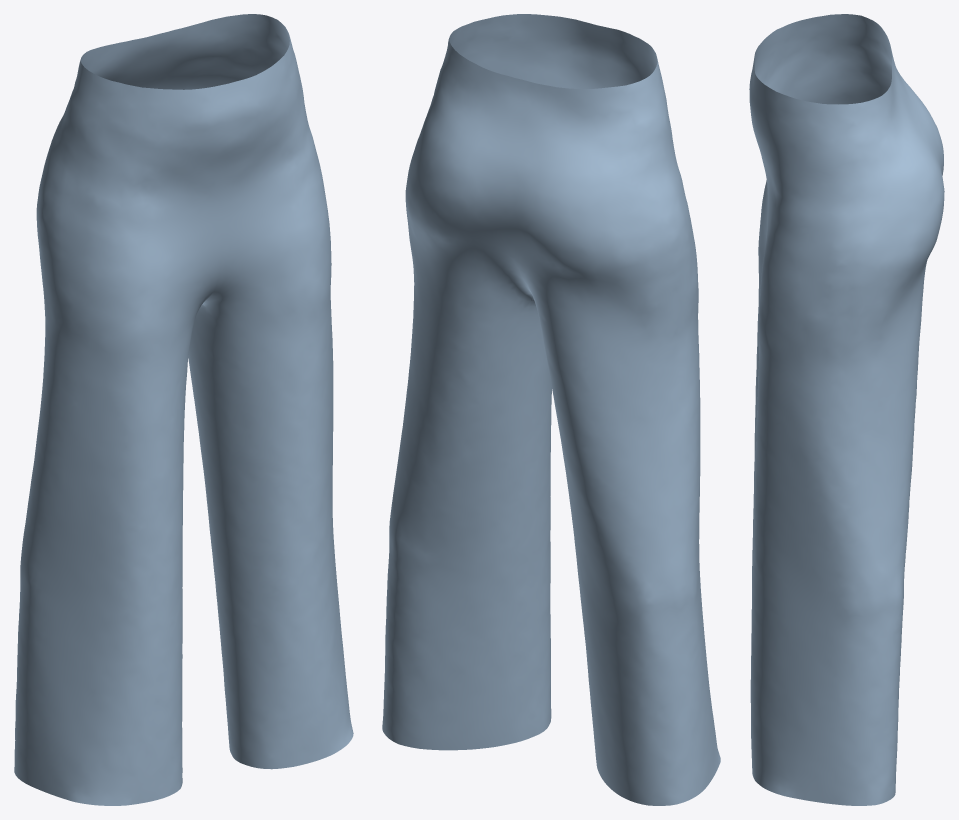
Rendered from trousers_M.glb.
3 renders of one model, left to right at view 1: azimuth 30°, elevation 25°; view 2: azimuth 150°, elevation 25°; view 3: azimuth 270°, elevation 25°, orthographic. The views are drawn at different scales.
Visible parts, largest first — view 1: geometry_0; view 2: geometry_0; view 3: geometry_0.
Part boxes in pixels (x1,y1,x2,y2): geometry_0: (14, 14, 353, 805); geometry_0: (382, 14, 720, 805); geometry_0: (749, 14, 944, 805).
Bounding box in the file's own units: 0.4628 × 1 × 0.2616.
